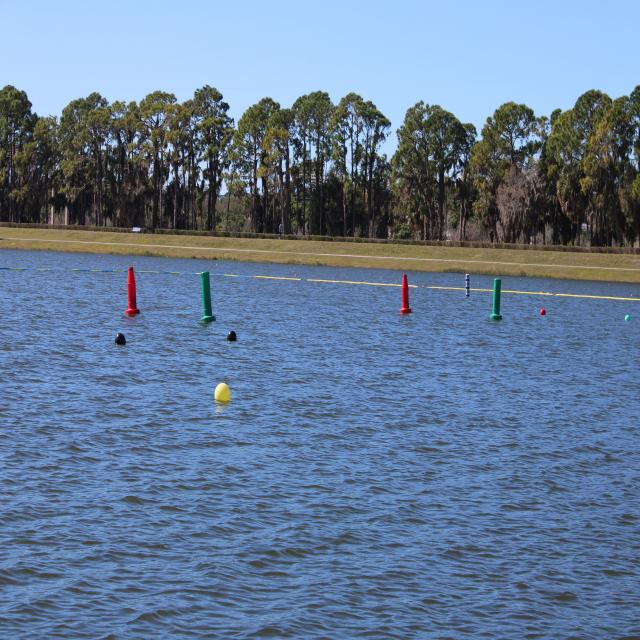black-buoy: (114, 335, 125, 347), (229, 332, 238, 344)
green-buoy: (626, 315, 632, 322)
green-column-buoy: (202, 271, 216, 323), (491, 278, 503, 320)
red-column-buoy: (127, 265, 140, 314), (401, 274, 413, 314)
yellow-buoy: (215, 381, 231, 401)
